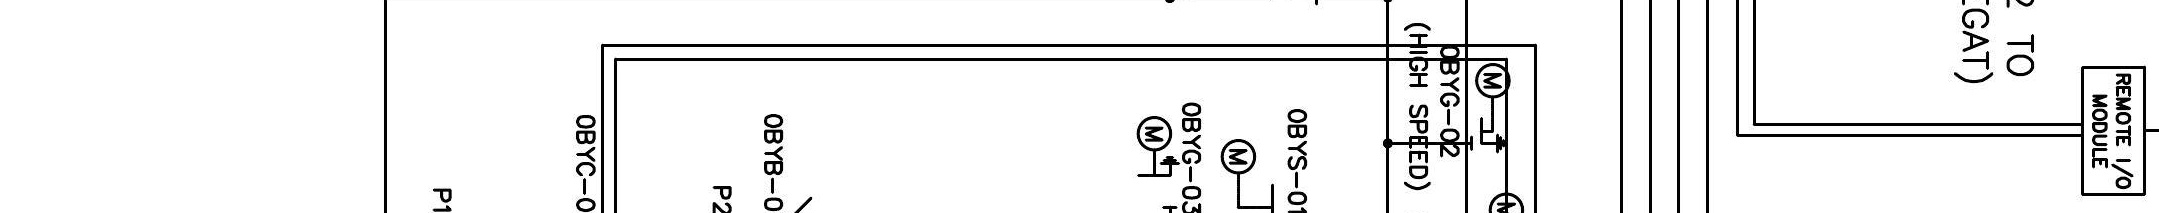115_gs_w_motor: (1136, 115, 1181, 209), (1469, 62, 1512, 154)
remote_io_module: (2081, 66, 2147, 197)
